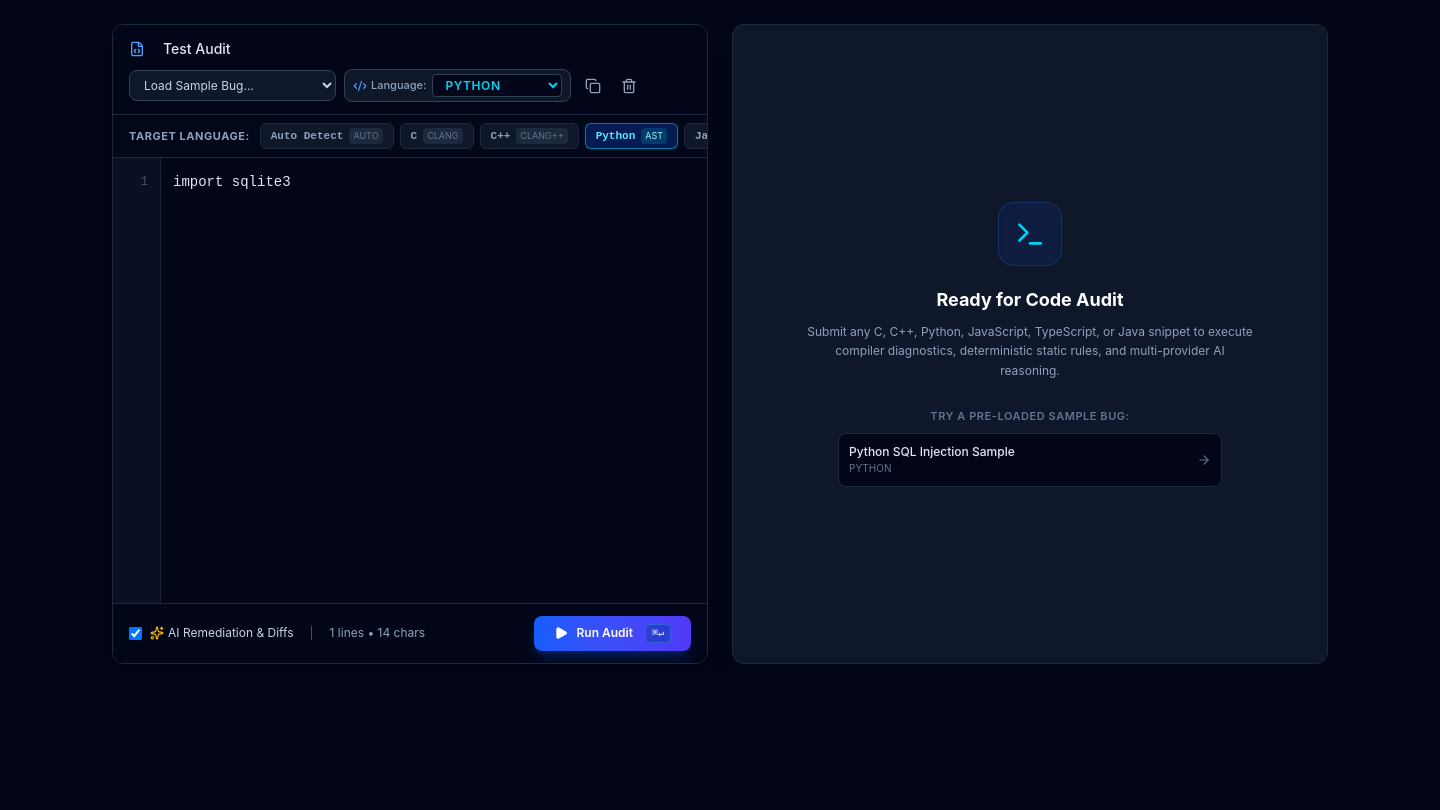
it: Code Audit Regression Tests › runs audit successfully and renders findings while resetting loading state
Click the button "Run Audit ⌘↵" at point(613, 633), box [534,616,691,651]
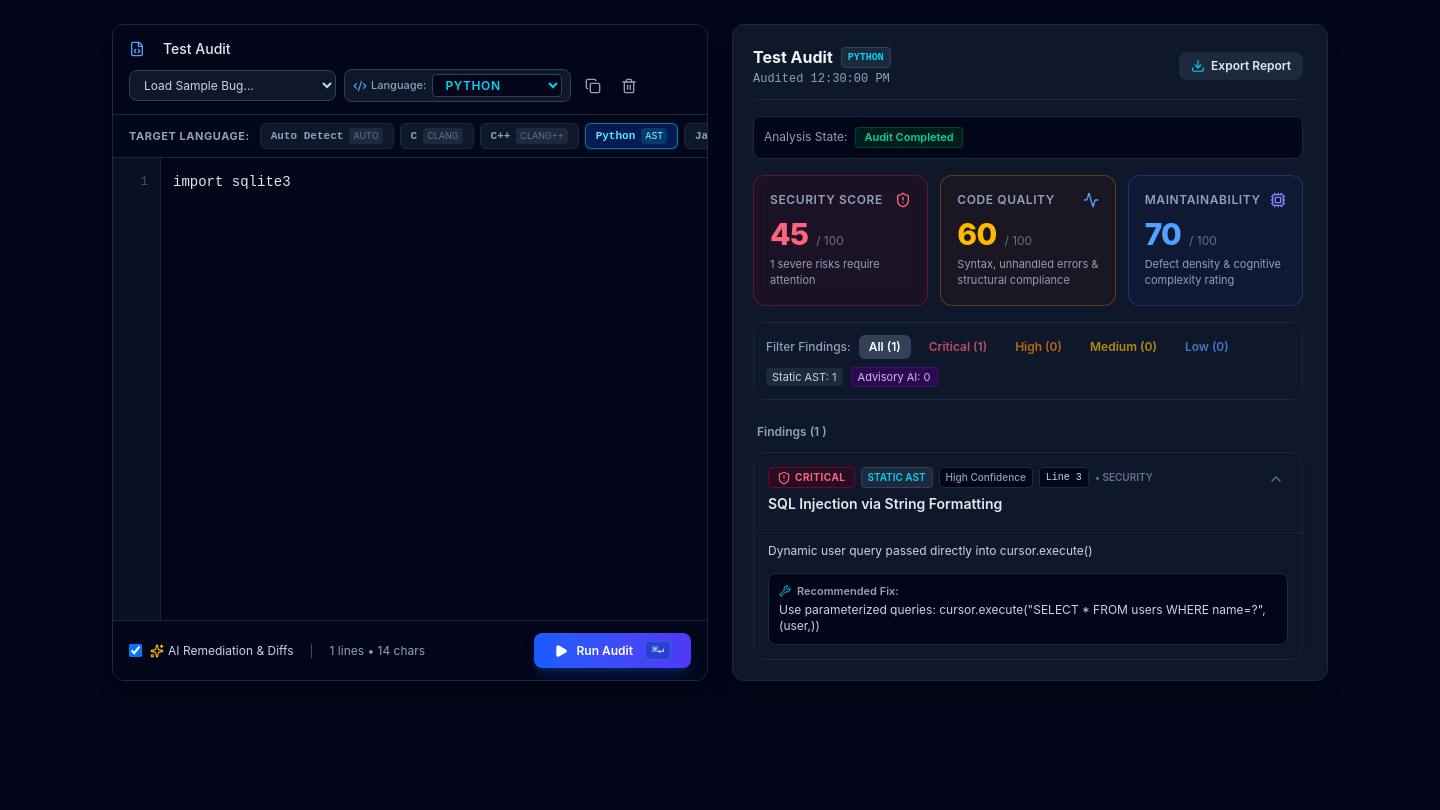
Expected: the button "Run Audit ⌘↵" is shown, [534,633,691,668]
Expected: the heading "SQL Injection via String Formatting" is shown, [768,495,1002,512]
